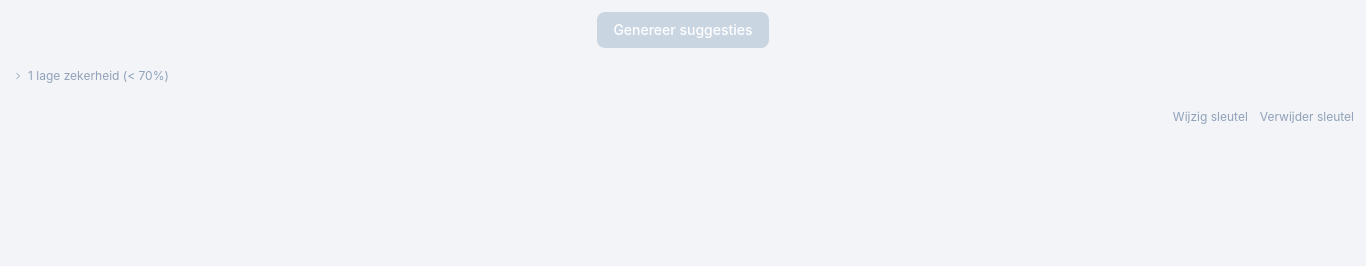
Test: AISuggestionPanel › passes reasoning through to low-confidence suggestion cards
Click the button with test id "low-confidence-toggle" at (98, 76), box left=12, top=64, right=1354, bottom=88
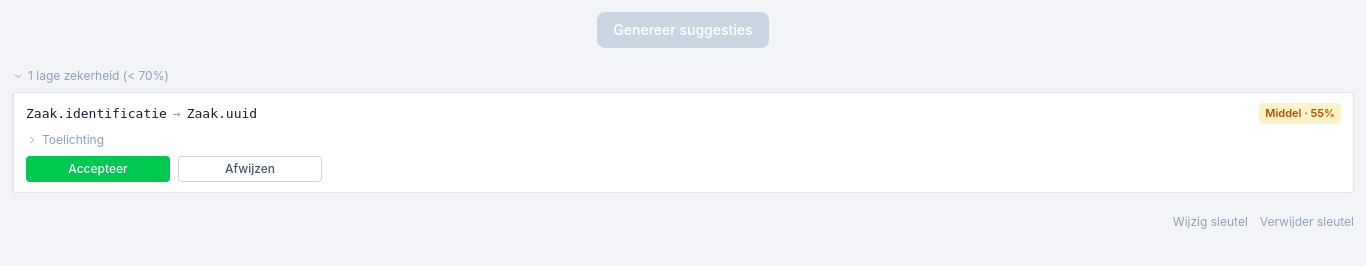
Now the button with test id "toelichting-toggle" is shown
Click the button with test id "toelichting-toggle" at (65, 140), box left=26, top=132, right=104, bottom=148
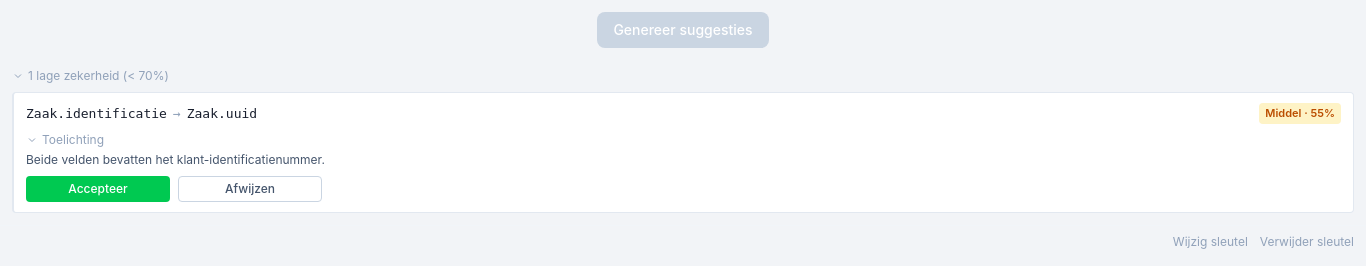
Now the text with test id "toelichting-text" reads "Beide velden bevatten het klant-identificatienummer.", box left=26, top=152, right=325, bottom=166
